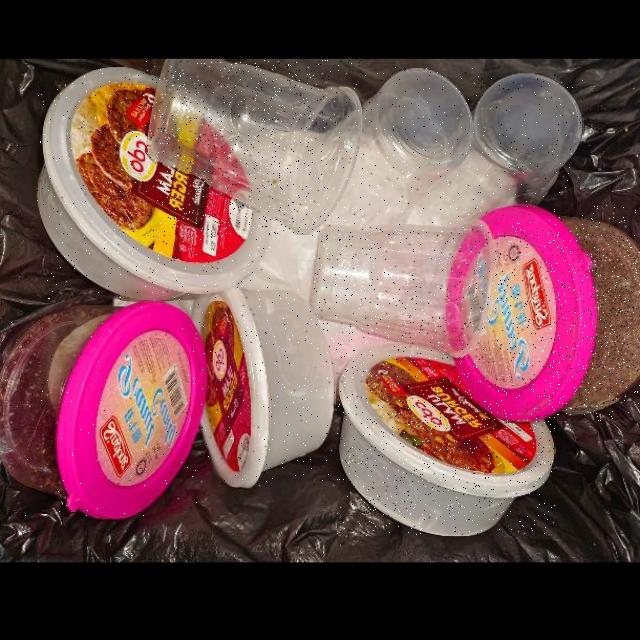plastic: (38, 66, 273, 300), (0, 300, 209, 519), (338, 340, 555, 536), (446, 204, 640, 420), (146, 60, 363, 235), (192, 285, 335, 487), (420, 73, 583, 228), (312, 220, 493, 355), (328, 67, 477, 229)
